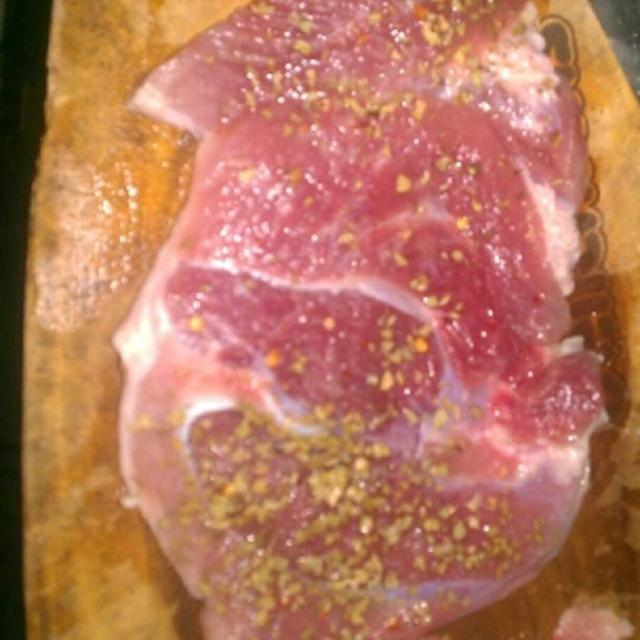carne de cerdo: (103, 3, 617, 631)
